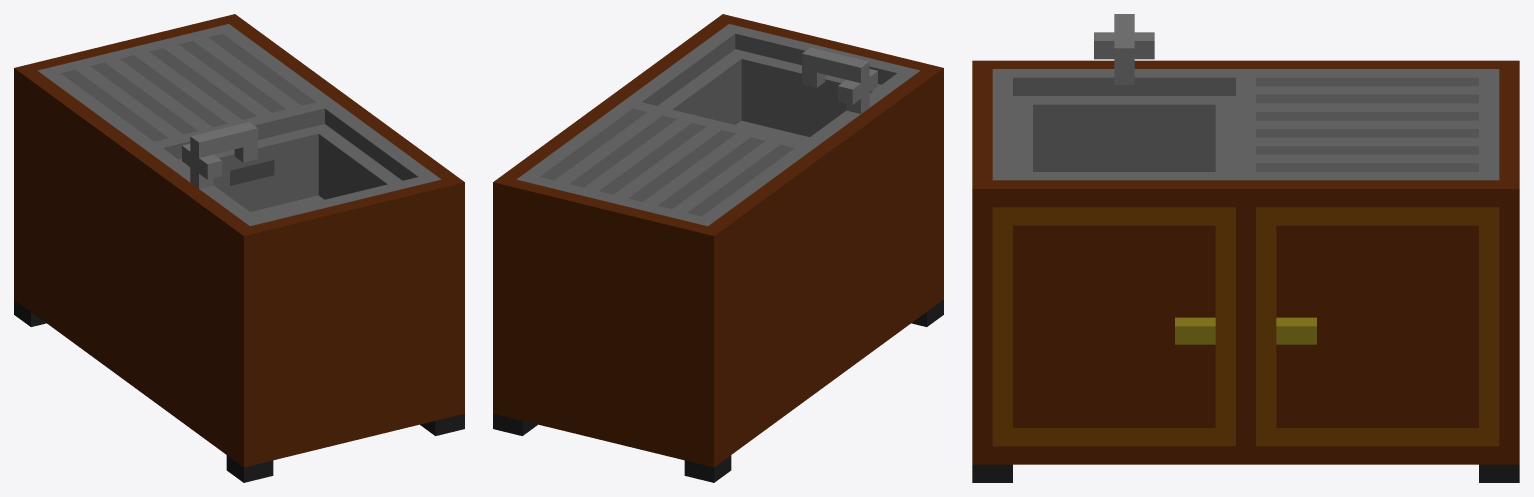
Rendered from Sink.gltf.
The picture shows the model from 3 angles, left to right: view 1: azimuth 30°, elevation 25°; view 2: azimuth 150°, elevation 25°; view 3: azimuth 270°, elevation 25°; orthographic projection. The views are drawn at different scales.
Parts seen in each view (by area): view 1: Frame, Sink; view 2: Frame, Sink; view 3: Sink, DoorL, DoorR, Frame.
Boxes of the visible parts, box(x1,y1,x2,y2) form: Frame: box(14, 14, 464, 482); Sink: box(37, 24, 441, 226); Frame: box(493, 14, 943, 482); Sink: box(516, 24, 920, 226); Sink: box(992, 14, 1499, 180); DoorL: box(992, 207, 1235, 446); DoorR: box(1256, 207, 1499, 446); Frame: box(972, 60, 1519, 482).
Size of the model in its own units: 16 by 19 by 27.
